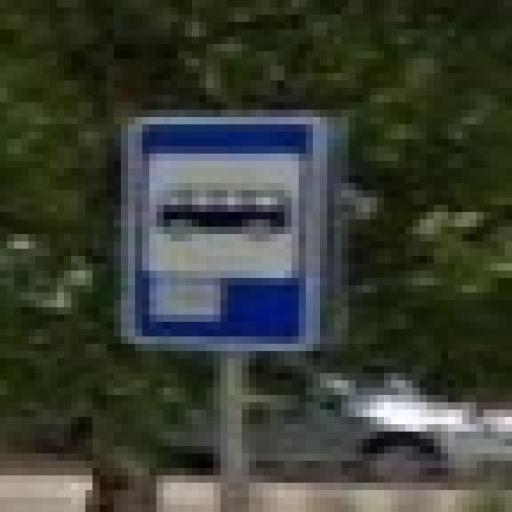traffic_sign: (115, 111, 328, 352)
